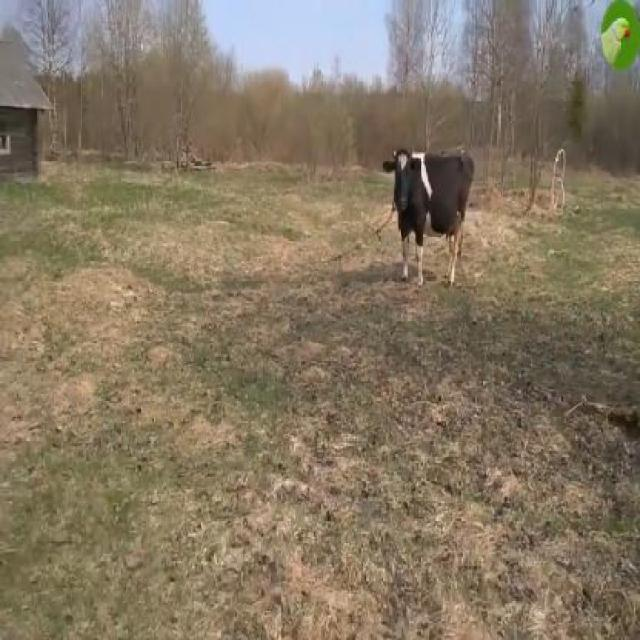Cow: (386, 148, 474, 289)
